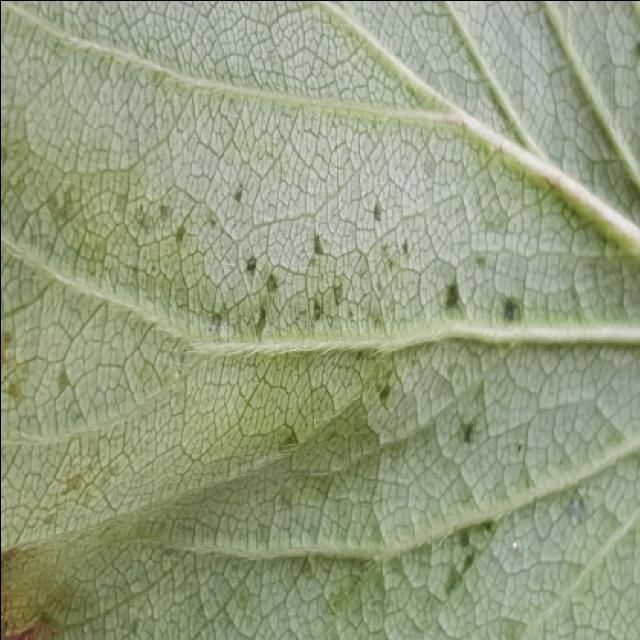Angular Leafspot: (2, 175, 535, 604)
